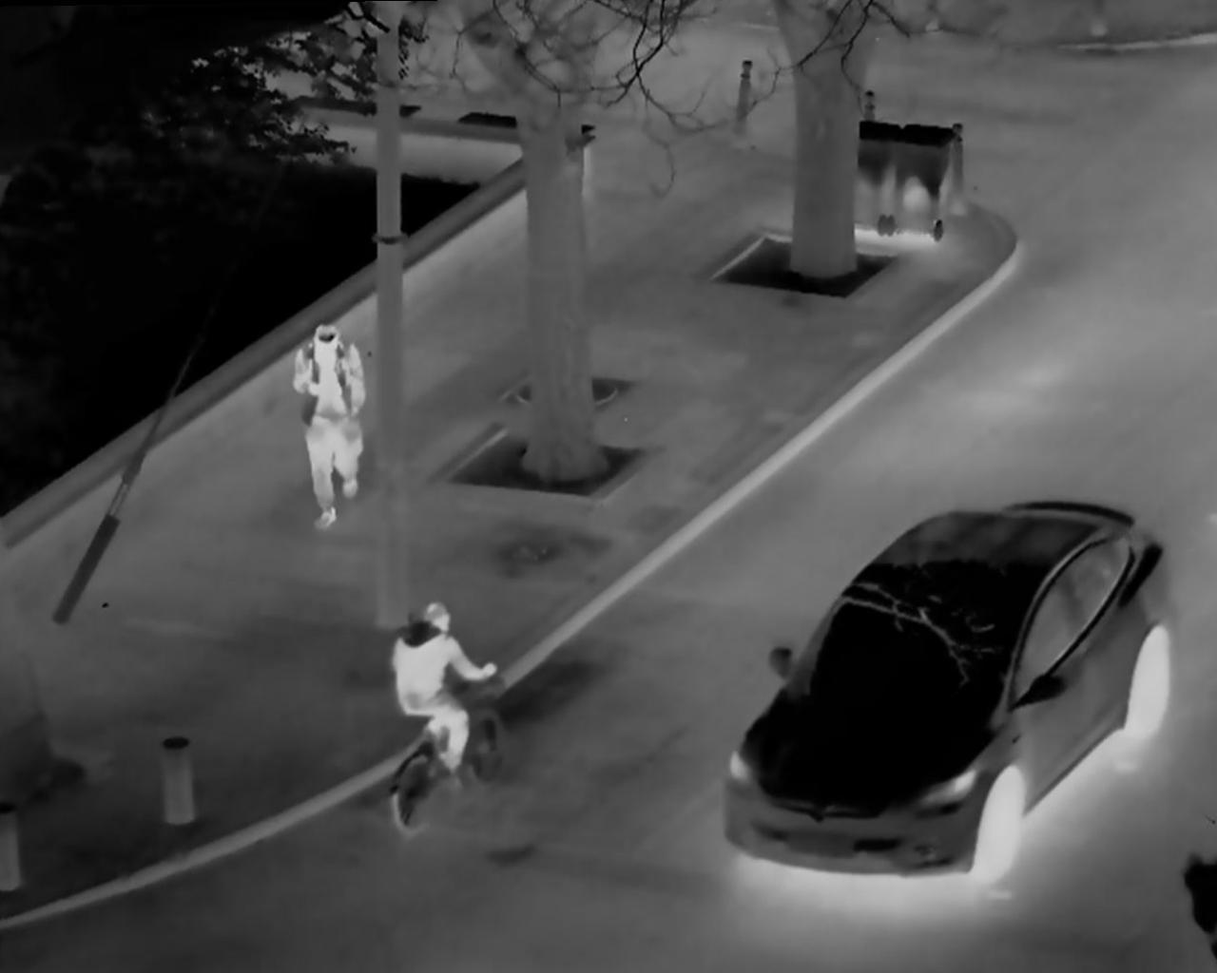person: (381, 585, 491, 828), (288, 315, 371, 531)
